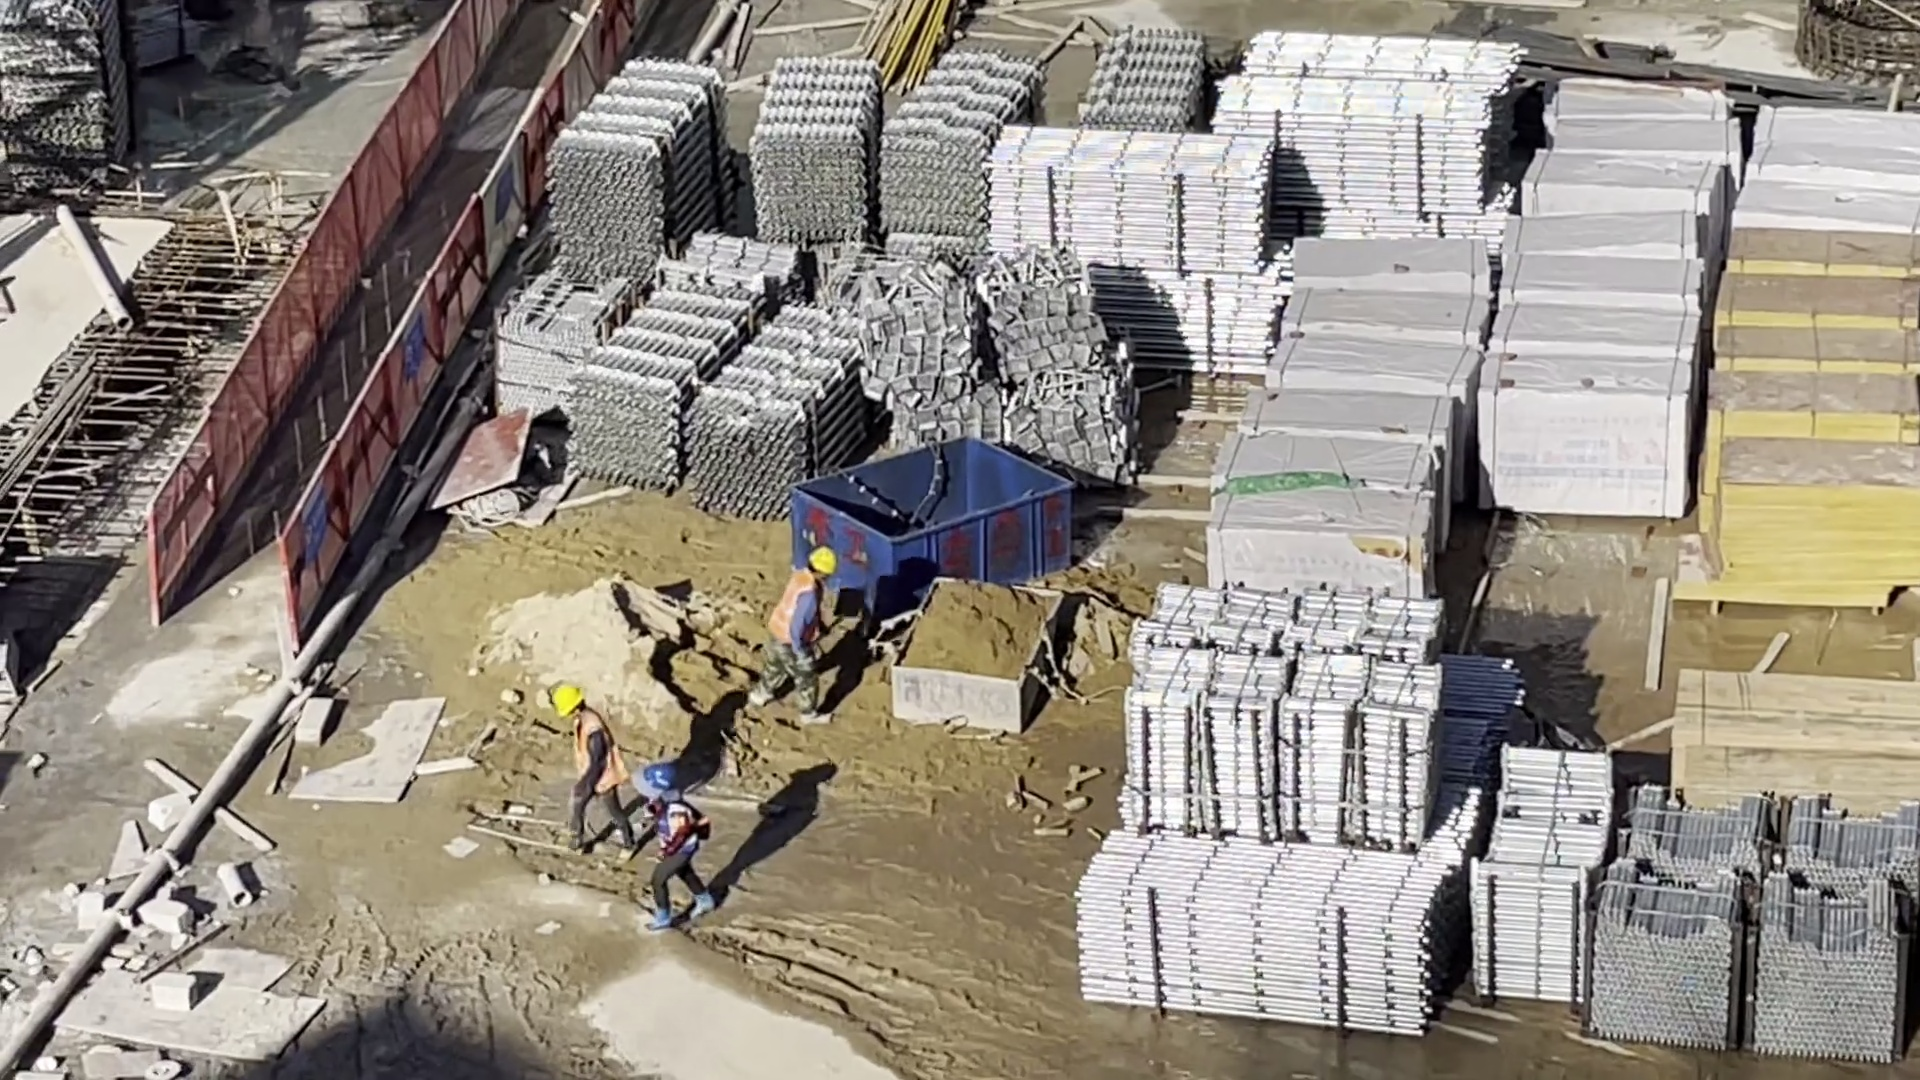board: (1698, 224, 1916, 604), (1667, 657, 1920, 819)
fence: (151, 12, 604, 589)
helmet: (554, 686, 583, 716), (808, 549, 836, 577), (645, 767, 679, 790)
hopper: (797, 437, 1073, 622), (896, 576, 1059, 738)
person: (554, 687, 642, 865), (761, 550, 836, 723), (642, 765, 713, 931)
scaffold: (1589, 795, 1919, 1064), (1125, 589, 1436, 843), (1075, 833, 1454, 1033), (985, 126, 1282, 374), (578, 293, 873, 514), (1212, 31, 1524, 210), (755, 58, 1029, 227), (1477, 742, 1612, 1007), (552, 64, 720, 272), (3, 1, 125, 192), (1082, 34, 1202, 131)
slogan: (306, 481, 327, 564), (401, 306, 423, 383)
vest: (567, 718, 627, 793), (771, 572, 815, 645)
